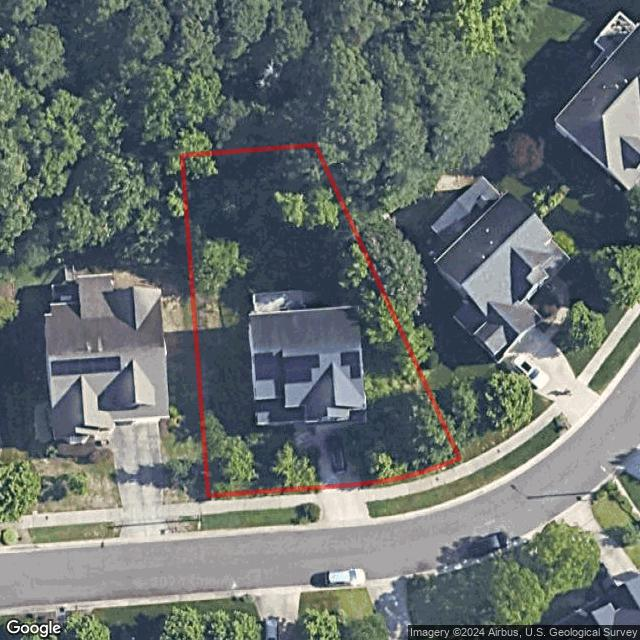Driveway: (293, 421, 362, 486)
Extra-Driveway: (320, 483, 372, 523)
Extra-Lawn: (368, 474, 482, 517), (363, 457, 465, 489), (208, 506, 320, 529), (208, 488, 320, 500)
Extra-Sidewalk: (362, 463, 471, 503), (208, 492, 320, 514)
House: (248, 303, 370, 425)
Lawn: (183, 145, 460, 495)
Other: (184, 146, 373, 300), (251, 286, 308, 314)
